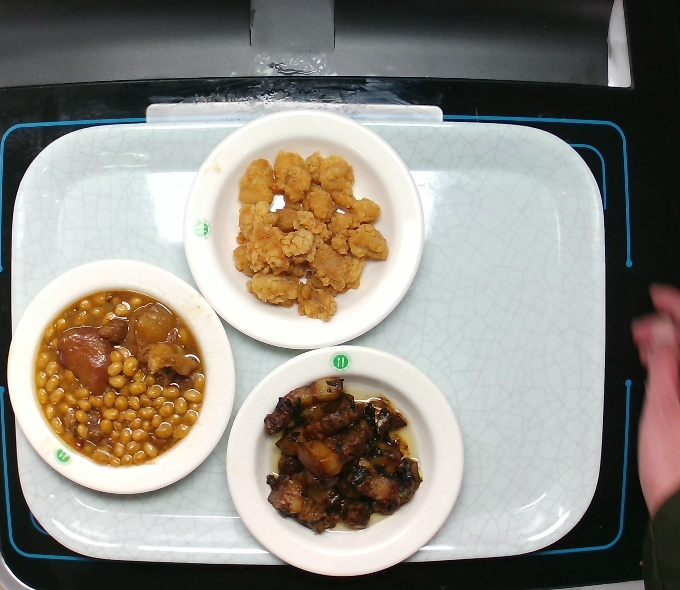wcq-GanCaiRou: (255, 371, 425, 537)
wcq-HuangDouZhuJiao: (30, 283, 210, 471)
wcq-JiMiHua: (227, 143, 393, 325)
